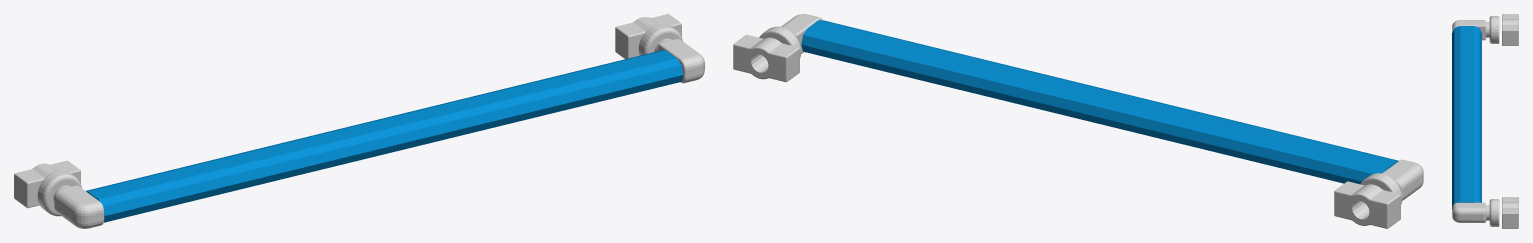
The model's file is handrail_21_5.dae.
3 renders of one model, left to right at view 1: azimuth 30°, elevation 25°; view 2: azimuth 150°, elevation 25°; view 3: azimuth 270°, elevation 25°, orthographic. The views are drawn at different scales.
Visible parts, largest first — view 1: node; view 2: node; view 3: node.
Part boxes in pixels (left/top/right/bottom): node: left=14, top=14, right=704, bottom=228; node: left=733, top=14, right=1423, bottom=228; node: left=1452, top=14, right=1518, bottom=228.
Bounding box in the file's own units: 0.5528 × 0.033 × 0.0782.
